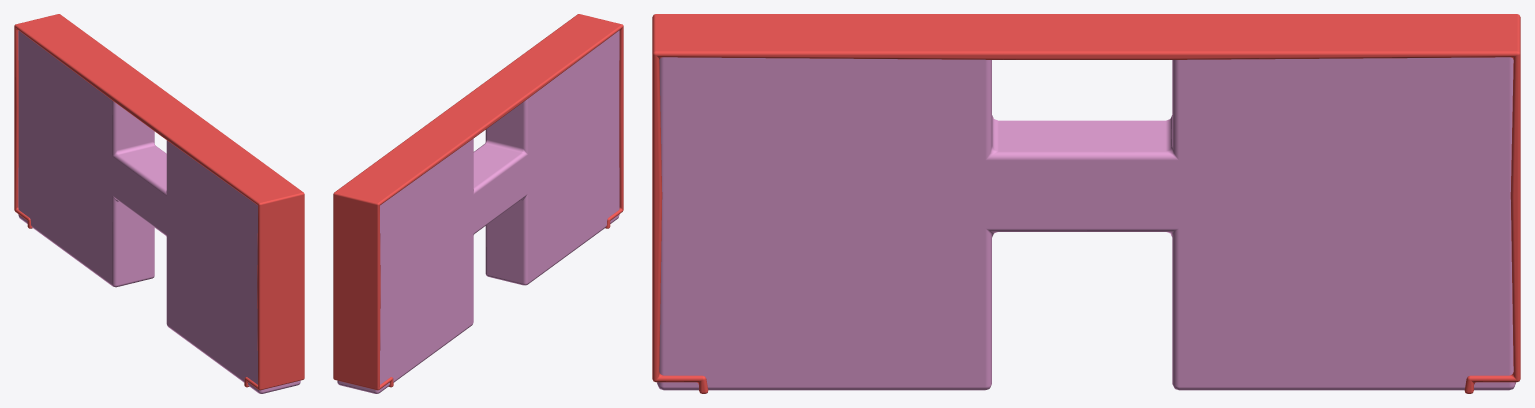
File: wall07.fbx
3 renders of one model, left to right at view 1: azimuth 30°, elevation 25°; view 2: azimuth 150°, elevation 25°; view 3: azimuth 270°, elevation 25°, orthographic. The views are drawn at different scales.
Parts seen in each view (by area): view 1: png7, wallOutside.002; view 2: png7, wallOutside.002; view 3: png7, wallOutside.002.
Part boxes in pixels (x1=…): png7: x1=18, y1=30, x2=300, y2=393; wallOutside.002: x1=14, y1=14, x2=304, y2=390; png7: x1=337, y1=30, x2=619, y2=393; wallOutside.002: x1=333, y1=14, x2=623, y2=390; png7: x1=657, y1=57, x2=1515, y2=390; wallOutside.002: x1=652, y1=14, x2=1520, y2=393.
Bounding box in the file's own units: 218 × 878 × 2014.
